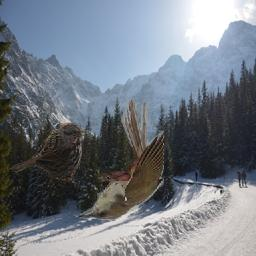Cuckoo: (76, 100, 164, 220)
Sparrow: (11, 120, 85, 188)
